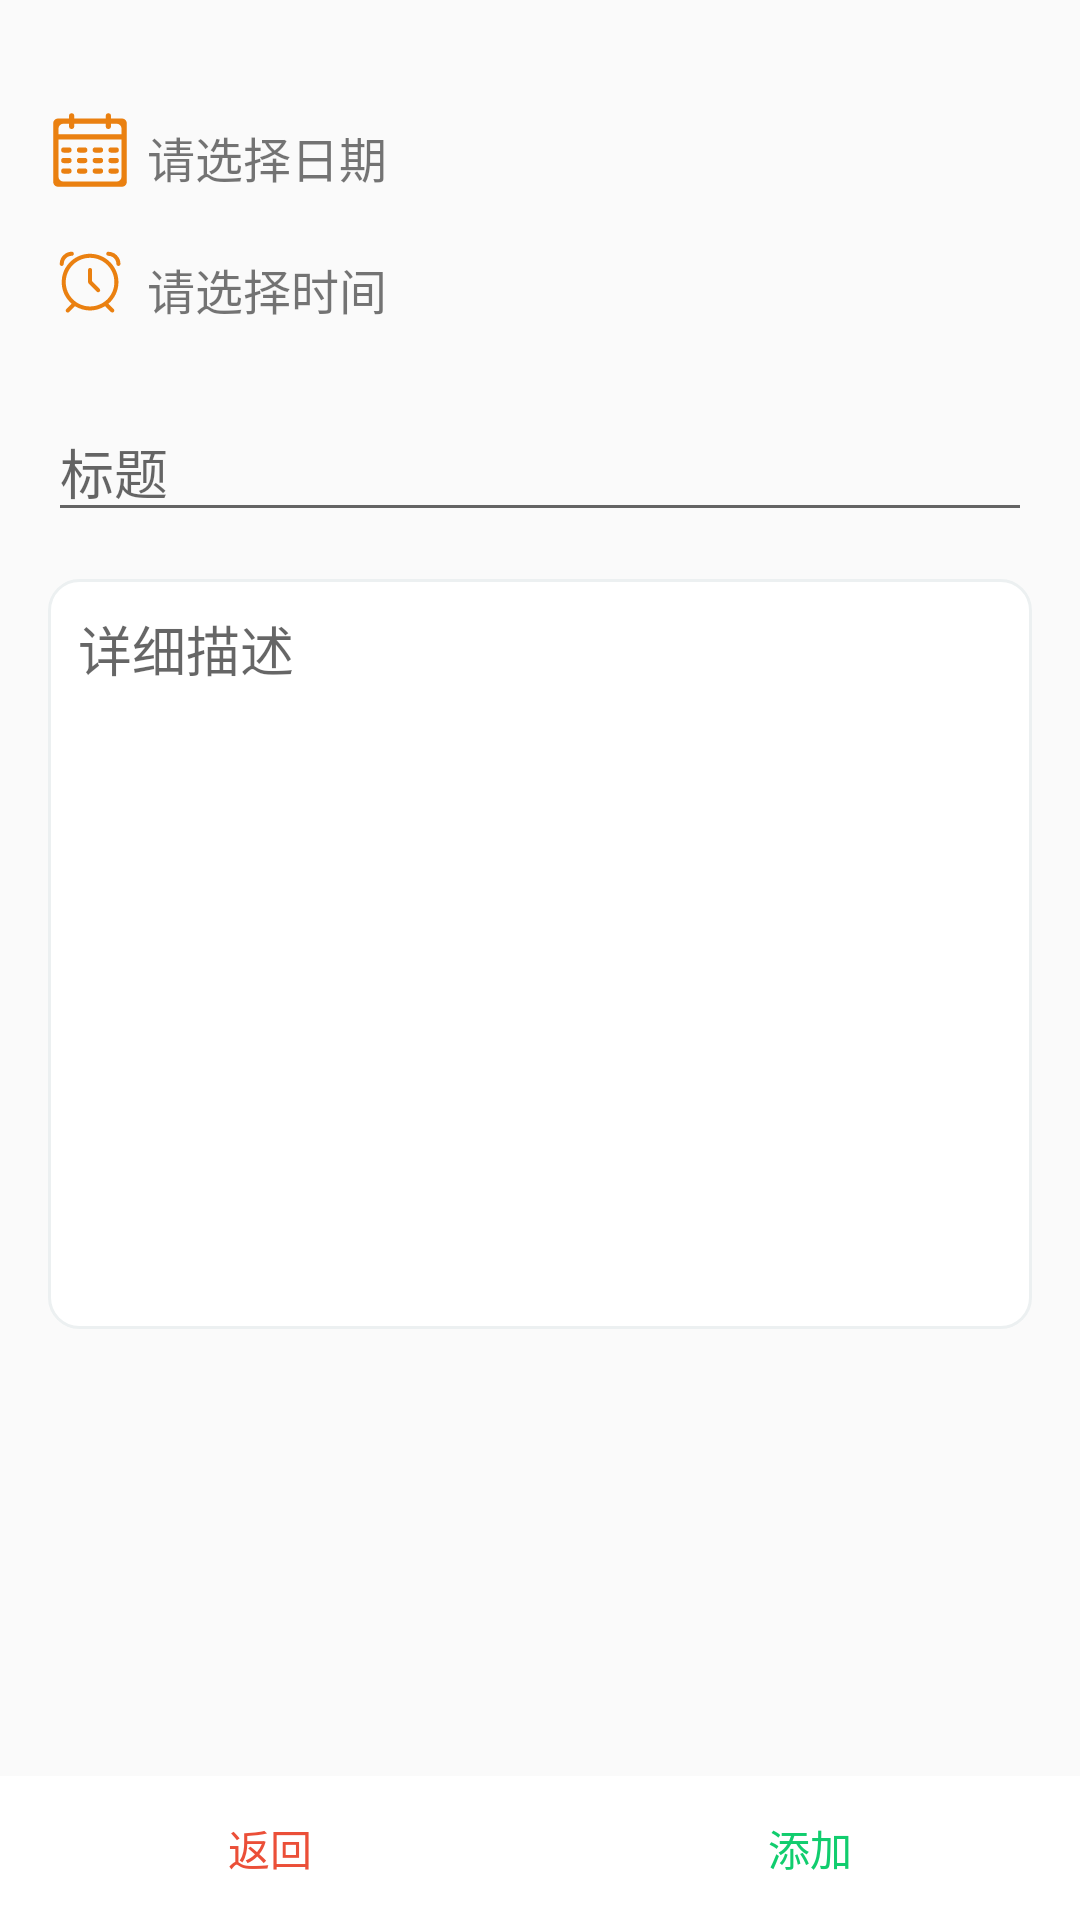

Locate icon controls on the screen. Image size 1080px×1920px, boxes as (x1, y1, x2, y2).
alarm: (59, 251, 121, 313)
calendar: (53, 113, 127, 187)
